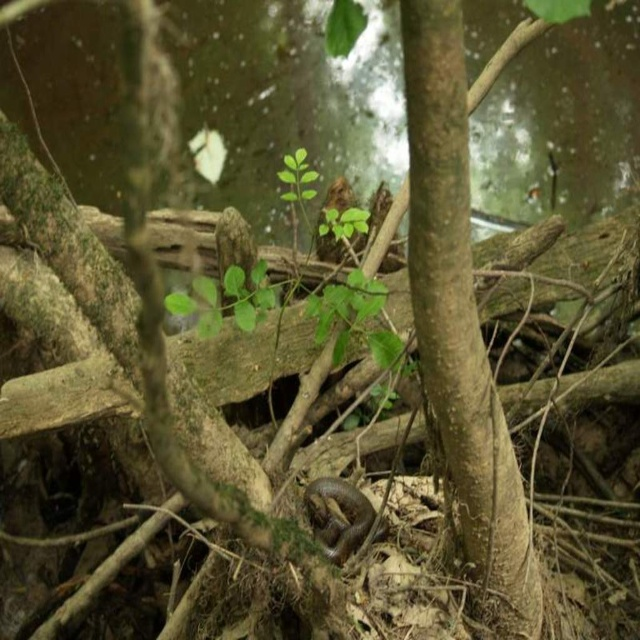Snake: (304, 476, 390, 567)
